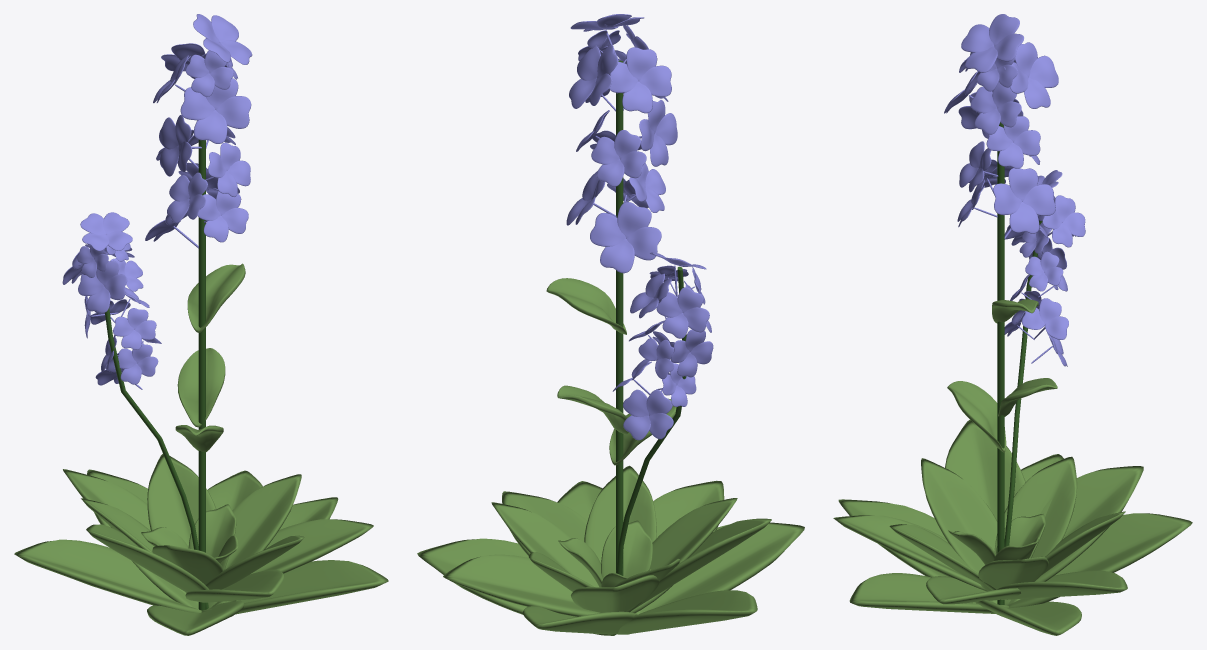
The model's file is flower3.fbx.
The picture shows the model from 3 angles, left to right: view 1: azimuth 30°, elevation 25°; view 2: azimuth 150°, elevation 25°; view 3: azimuth 270°, elevation 25°; orthographic projection. The views are drawn at different scales.
Parts seen in each view (by area): view 1: leaf1_pCube8, flower12_group30_group19_group14_pPlane6, pCylinder12; view 2: leaf1_pCube8, flower12_group30_group19_group14_pPlane6, pCylinder12; view 3: leaf1_pCube8, flower12_group30_group19_group14_pPlane6, pCylinder12.
Part boxes in pixels (x1=…): leaf1_pCube8: x1=14, y1=212, x2=388, y2=635; flower12_group30_group19_group14_pPlane6: x1=145, y1=14, x2=252, y2=451; pCylinder12: x1=198, y1=140, x2=205, y2=610; leaf1_pCube8: x1=417, y1=252, x2=804, y2=635; flower12_group30_group19_group14_pPlane6: x1=546, y1=14, x2=677, y2=465; pCylinder12: x1=616, y1=60, x2=623, y2=575; leaf1_pCube8: x1=833, y1=170, x2=1192, y2=635; flower12_group30_group19_group14_pPlane6: x1=944, y1=14, x2=1058, y2=452; pCylinder12: x1=997, y1=122, x2=1004, y2=604.
Size of the model in its own units: 16.39 by 28.82 by 15.78.
